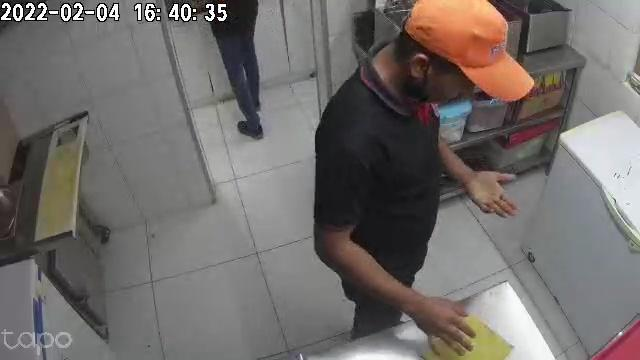no_gloves: (457, 170, 520, 220)
